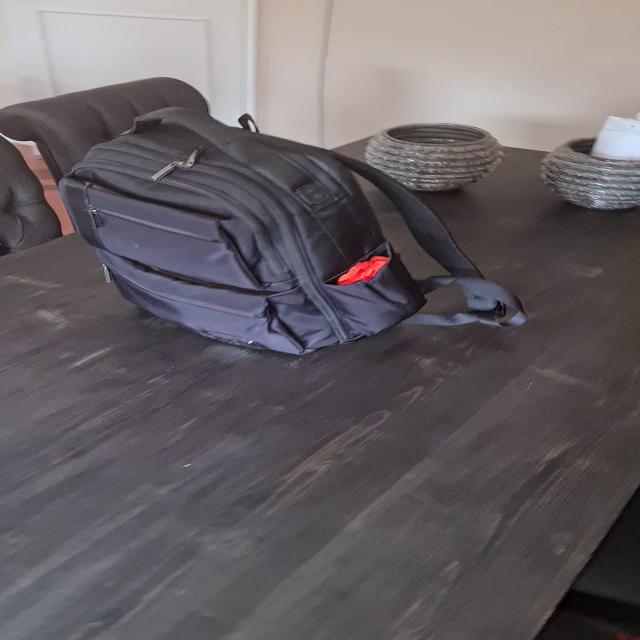backpack: (49, 90, 451, 357)
